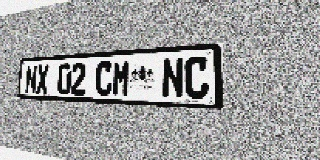0: (57, 63, 71, 95)
2: (71, 62, 86, 95)
C: (184, 56, 209, 99), (95, 61, 113, 96)
M: (112, 60, 130, 97)
N: (161, 57, 184, 99), (25, 65, 37, 94)
X: (36, 64, 49, 94)
